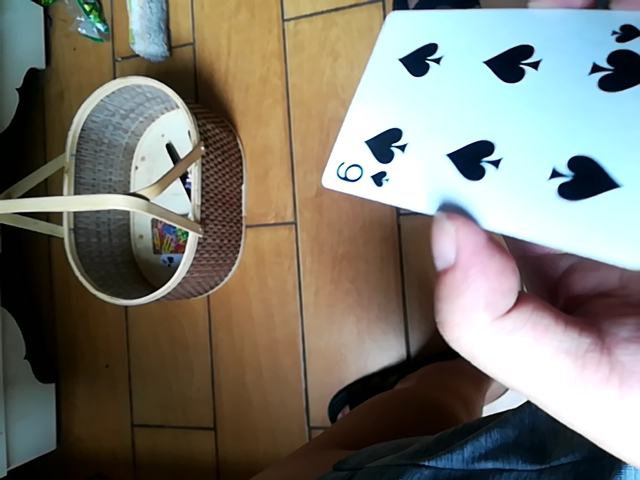ht 6: (322, 4, 639, 273)
